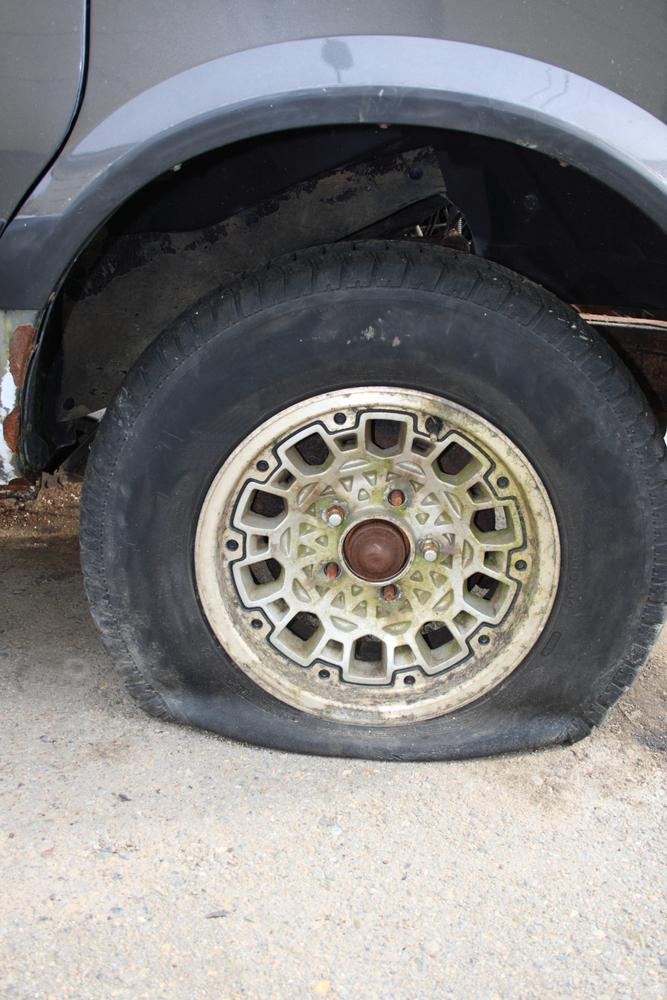tire flat: (79, 237, 667, 763)
